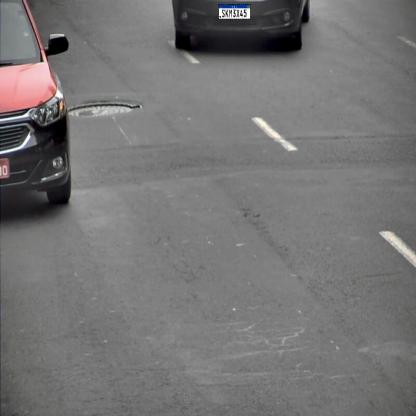PlacaM: (219, 4, 250, 20)
